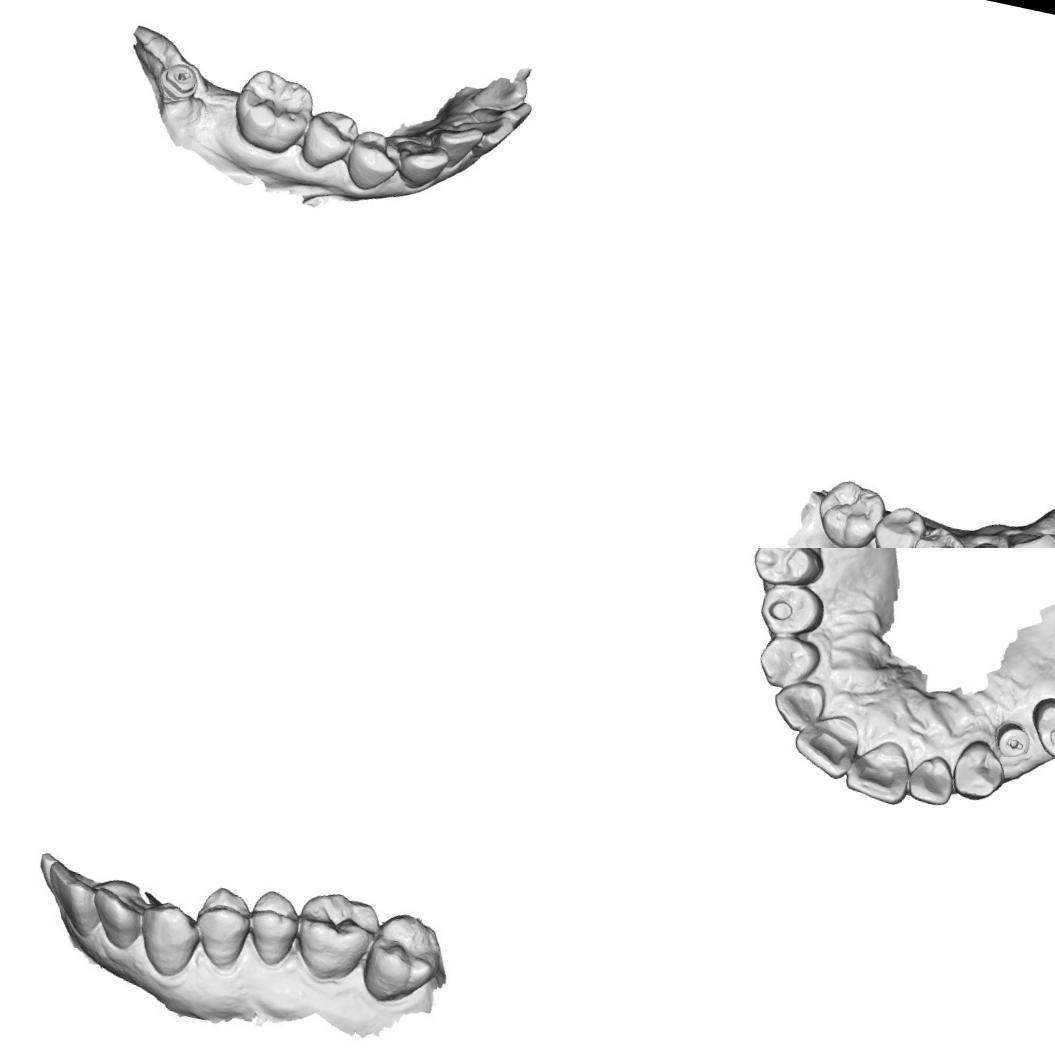canine: (126, 888, 211, 985), (751, 629, 826, 695), (948, 734, 1012, 807), (387, 136, 452, 195)
implant_minus: (154, 57, 204, 106), (992, 724, 1036, 760)
incisor: (35, 862, 115, 944), (786, 706, 865, 784), (840, 732, 917, 810), (80, 874, 151, 952), (767, 672, 832, 738), (423, 116, 485, 174), (904, 750, 960, 810), (452, 106, 518, 156), (468, 67, 530, 118), (1003, 522, 1055, 548)
molar: (348, 905, 452, 1014), (288, 884, 382, 988), (225, 64, 321, 160), (810, 474, 887, 548)
premolar: (189, 884, 259, 976), (240, 888, 308, 973), (752, 576, 829, 644), (296, 104, 362, 176), (341, 125, 406, 196), (747, 548, 829, 597), (865, 500, 925, 548), (906, 515, 969, 548), (1026, 689, 1055, 759)
